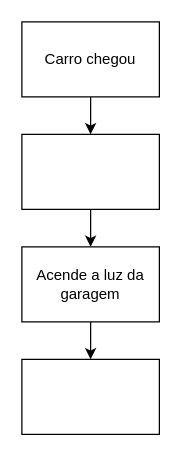
The diagram is 181 pixels wide and 456 high, and some of its shapes have lost their labels. Here are the shapes that lost their labels. From the top down, the box of each, then its label:
(21, 133, 159, 209): Identifica a placa do carro
(21, 358, 159, 434): Abre o portão
